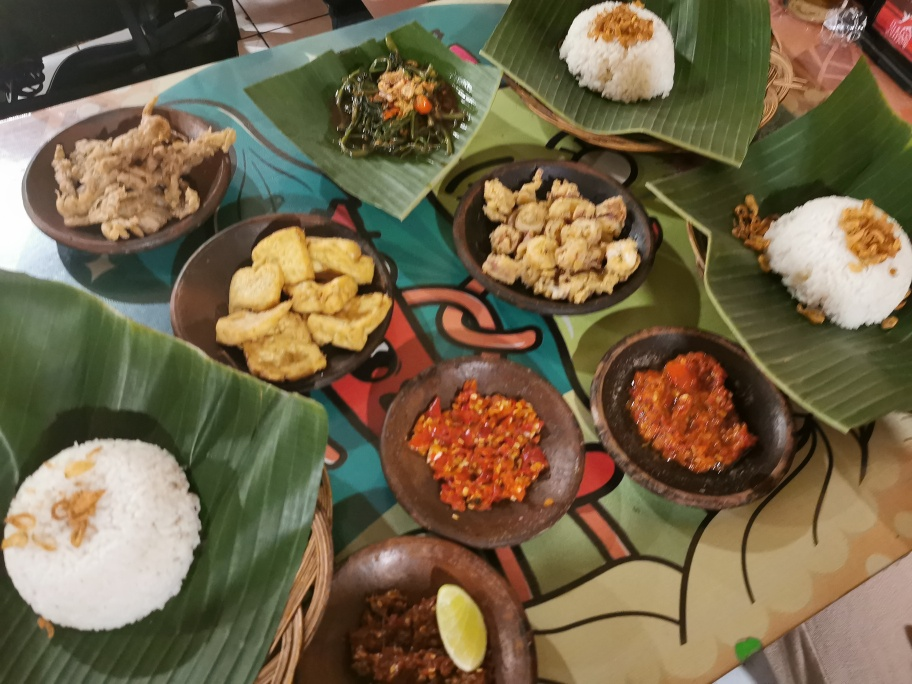nasi putih: (1, 438, 202, 633), (767, 193, 912, 329), (561, 1, 678, 102)
